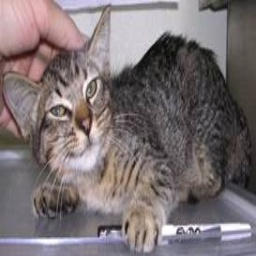cat: (12, 8, 255, 241)
